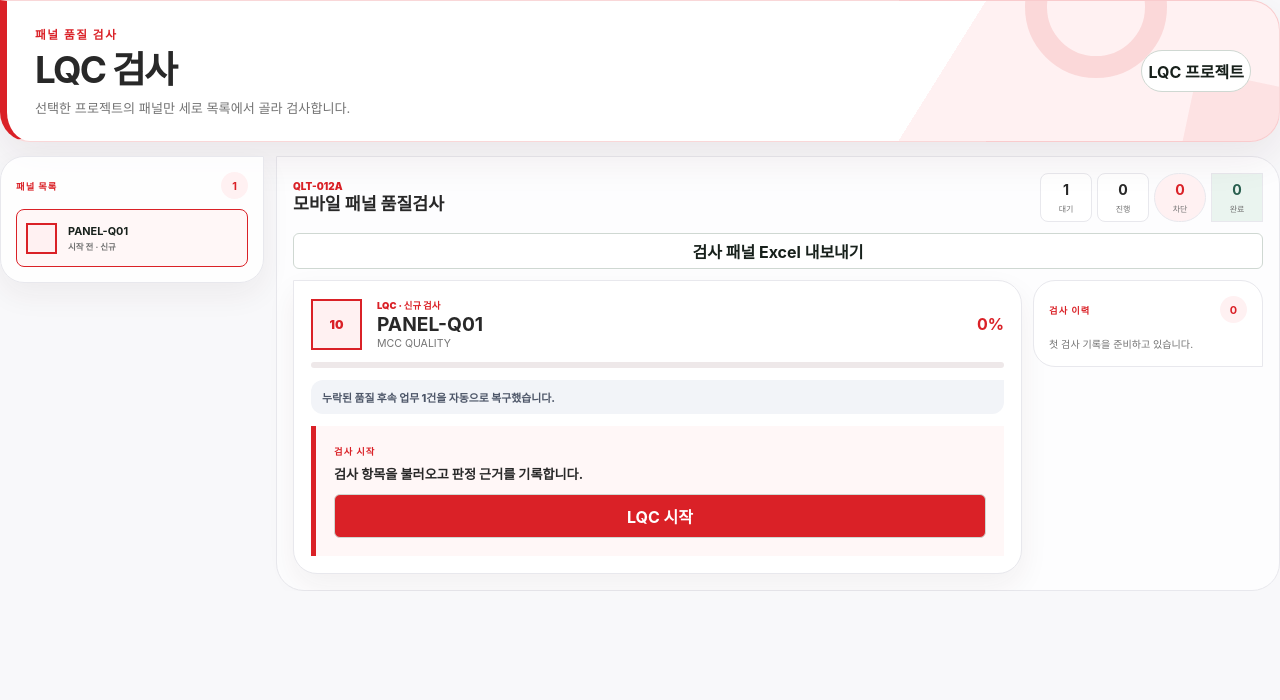
Test: QualityInspectionsPage › uses a mobile-specific inspection flow and reuses the start operation after a network failure
Expected: the heading "LQC 검사" is shown, [35, 47, 176, 92]
Expected: the text "검사 항목을 불러오고 판정 근거를 기록합니다." is shown, [334, 466, 583, 482]
Step 1. Click the button "LQC 시작" → [660, 516], box [334, 494, 986, 538]
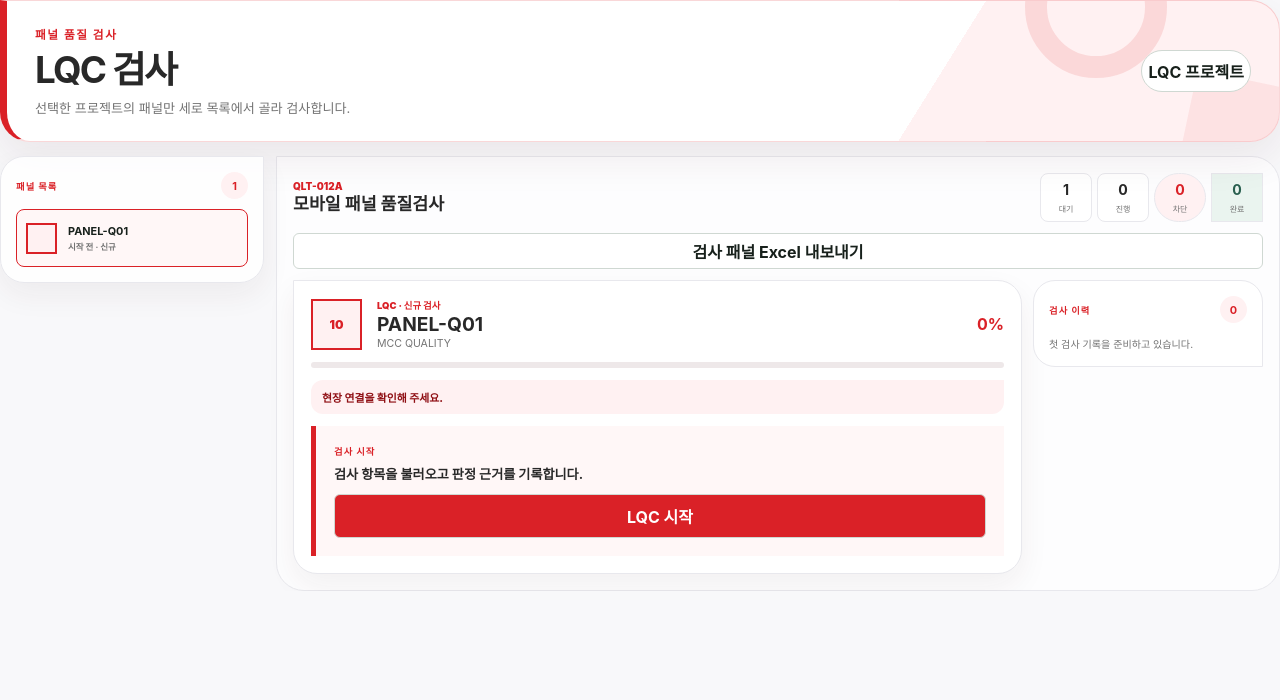
Now the text "현장 연결을 확인해 주세요." is shown, box [311, 380, 1004, 414]
Step 2. Click the button "LQC 시작" → [660, 516], box [334, 494, 986, 538]
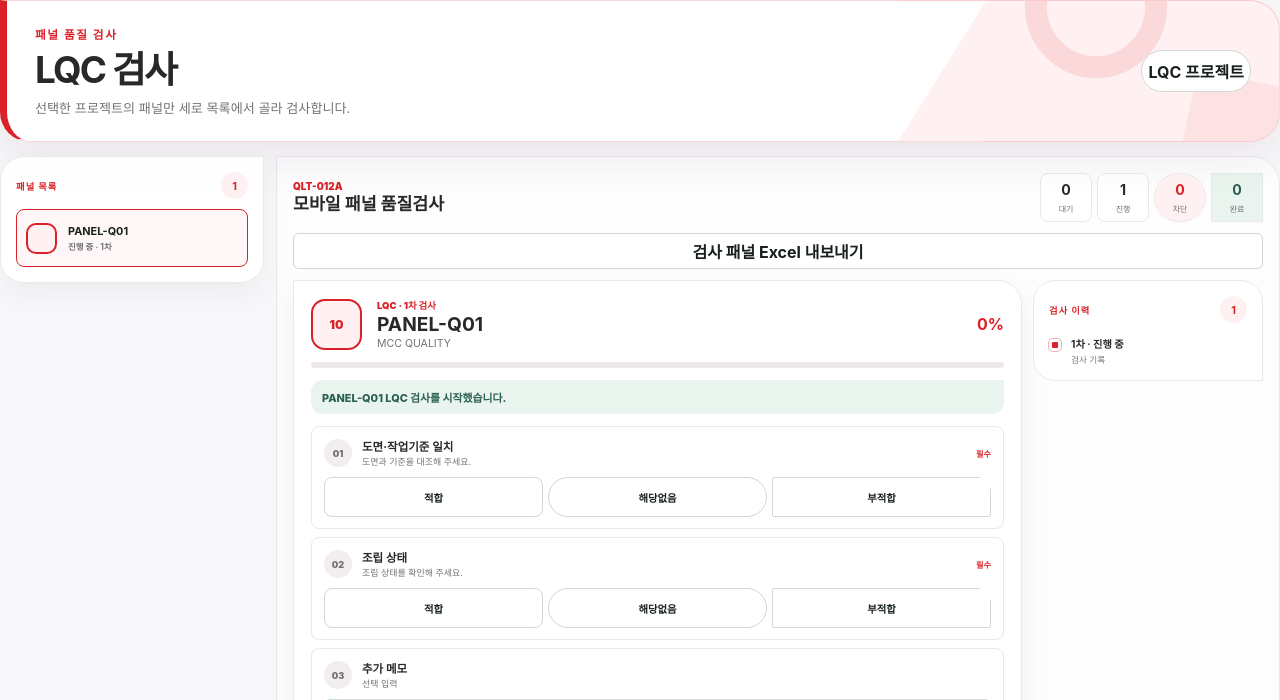
Now the text "도면·작업기준 일치" is shown, box [362, 440, 453, 454]
Now the number of buttons "적합" is 2, box [324, 477, 543, 517]; [324, 588, 543, 628]
